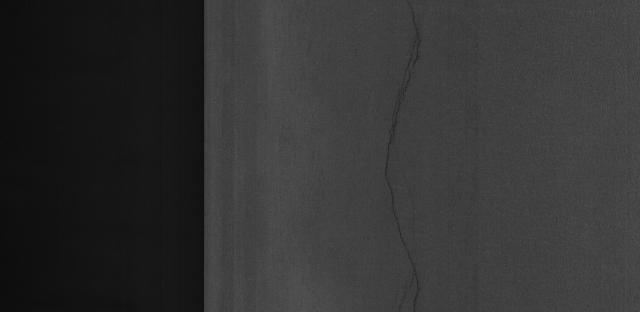water_spot: (370, 8, 458, 297)
